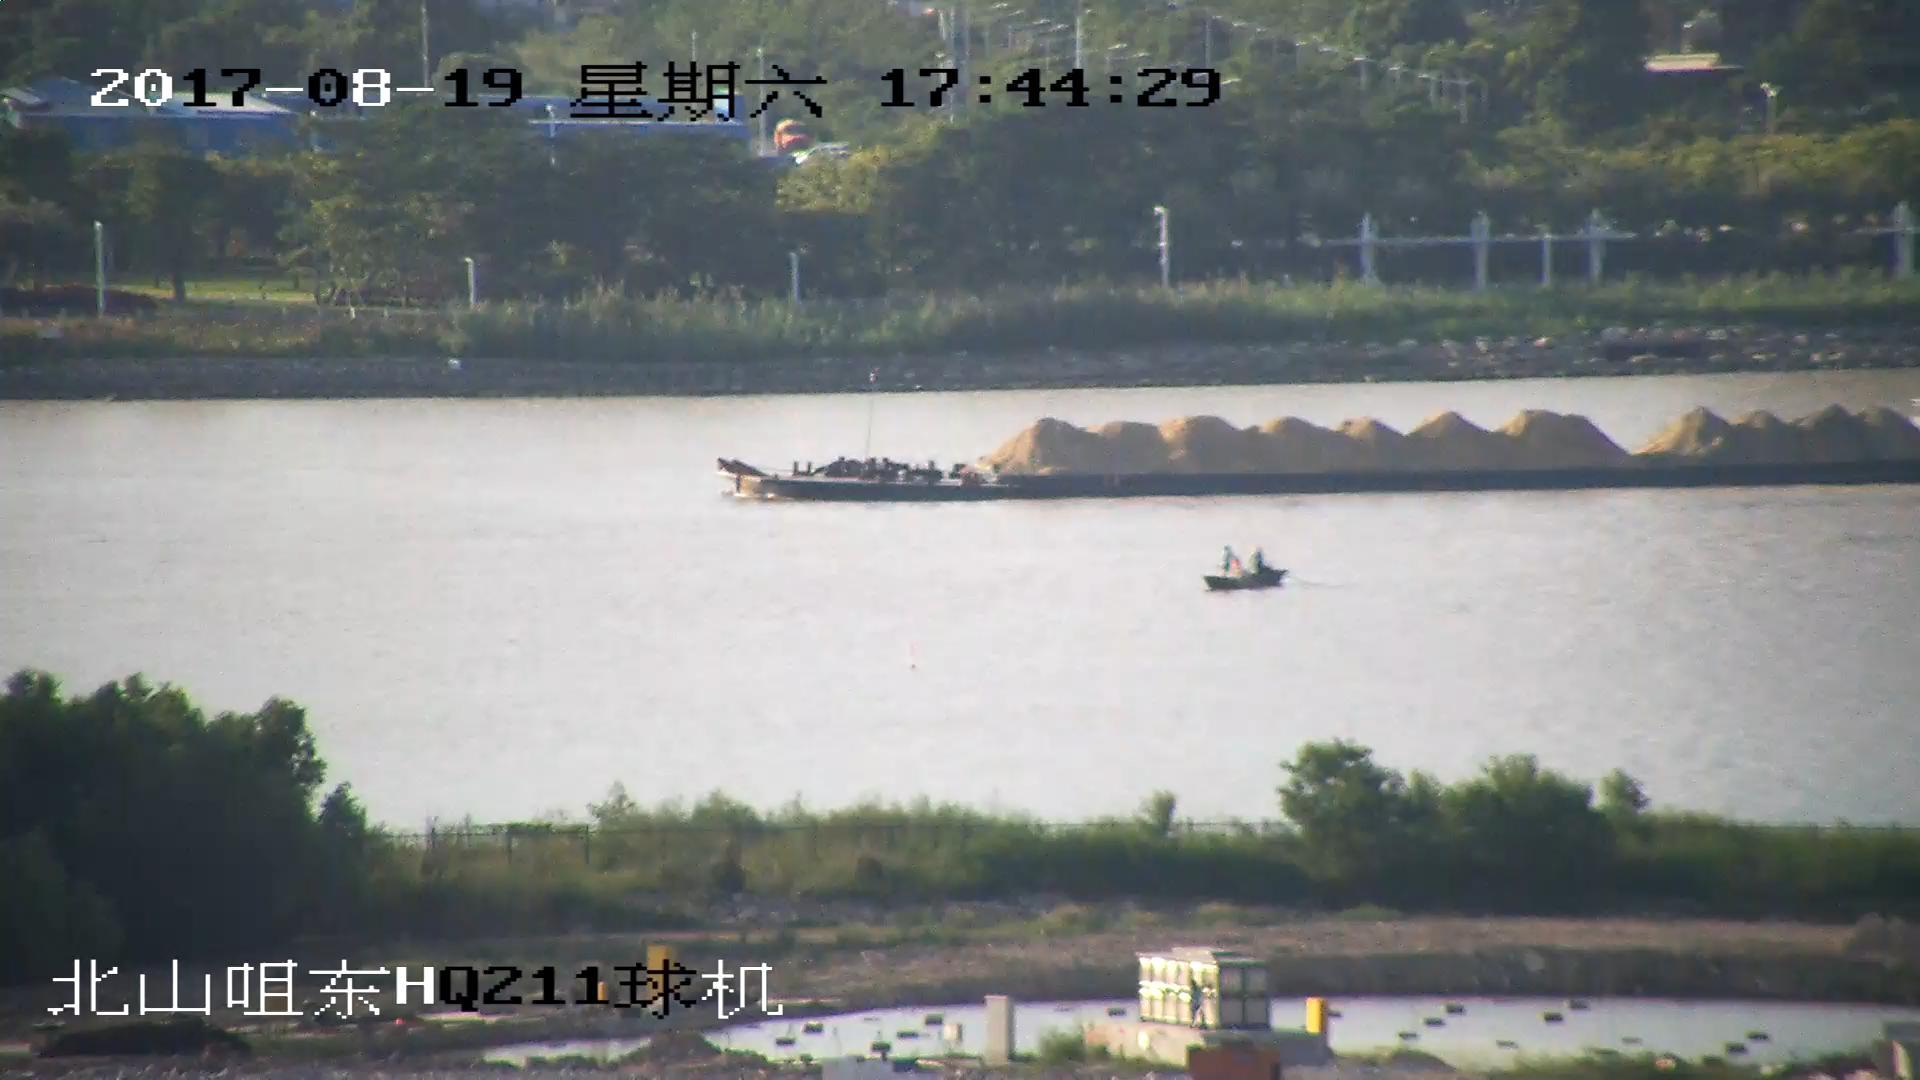Ship: (715, 404, 1920, 505), (1199, 547, 1291, 593)
